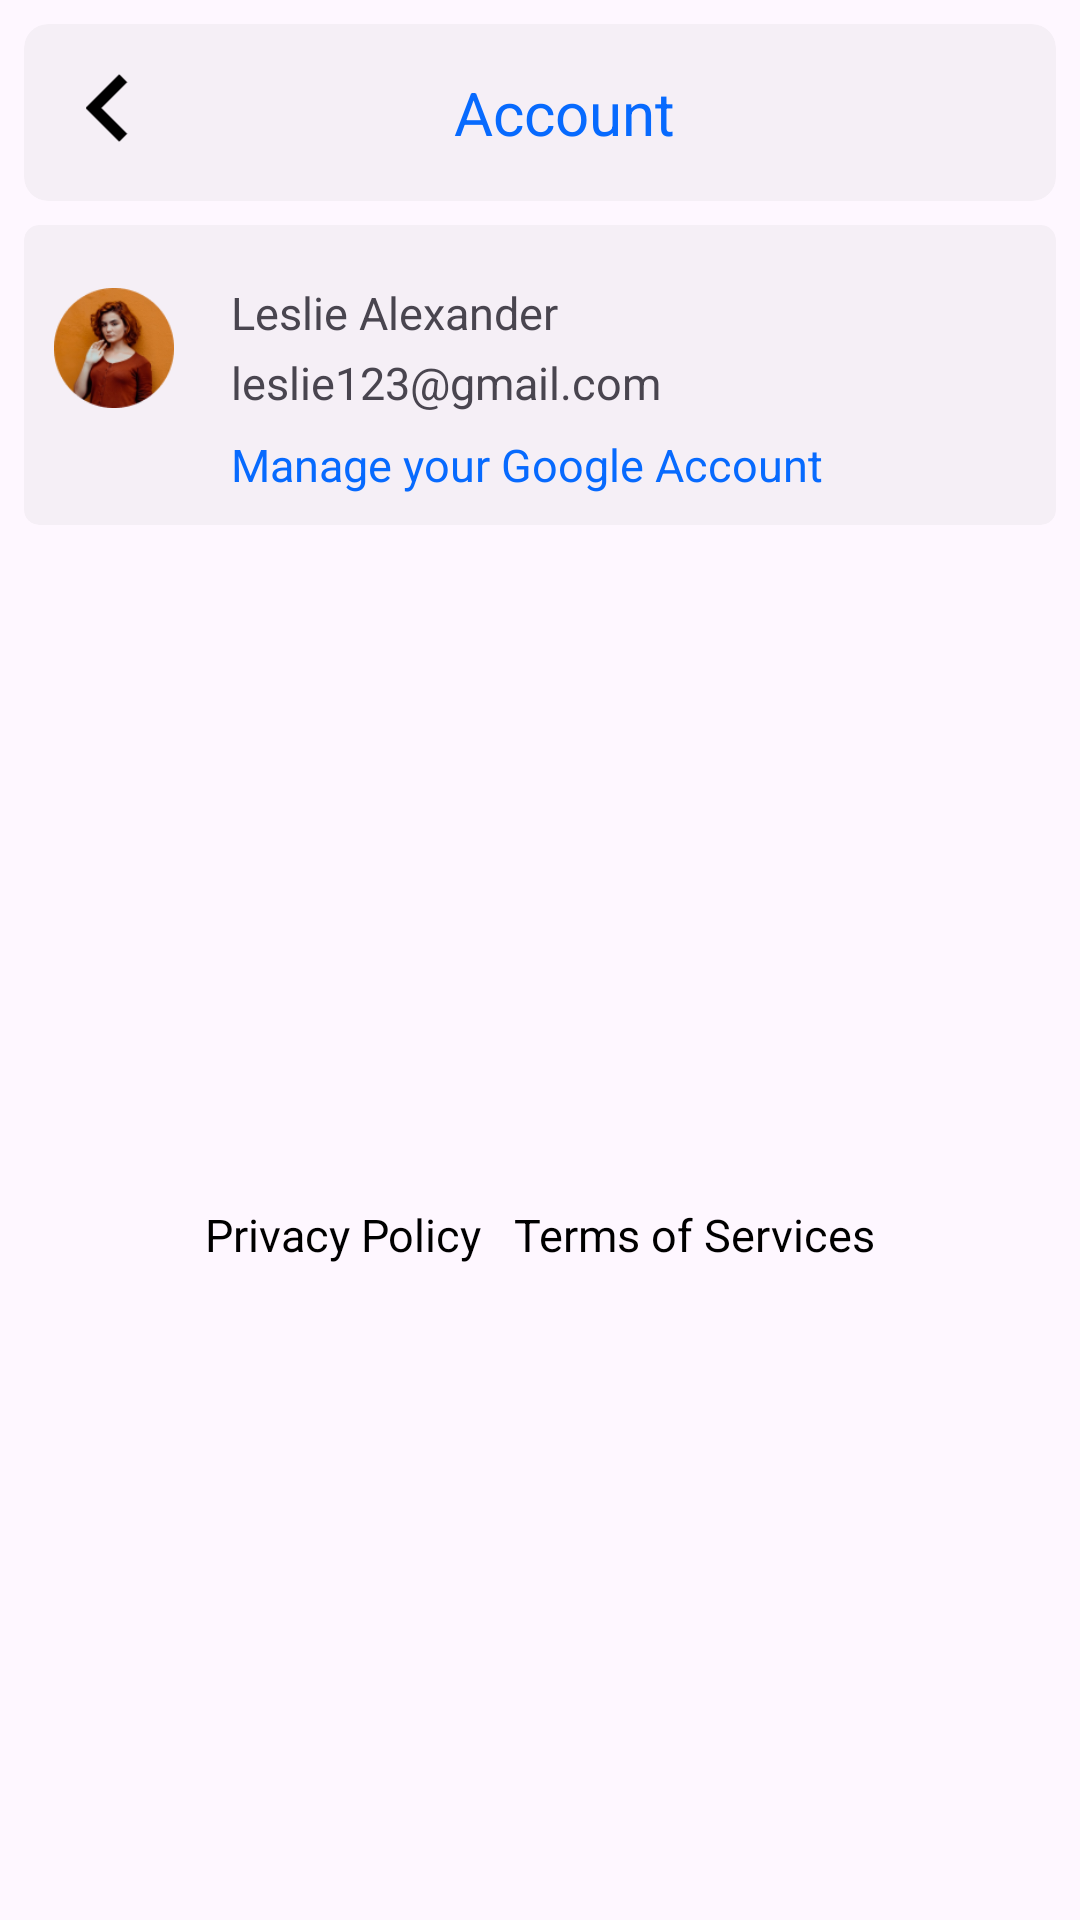

Screen size 1080w x 1920h. Icon name, then its box in pixels as (x1, y1, x2, y2):
back: (86, 74, 128, 142)
profile: (54, 288, 174, 408)
